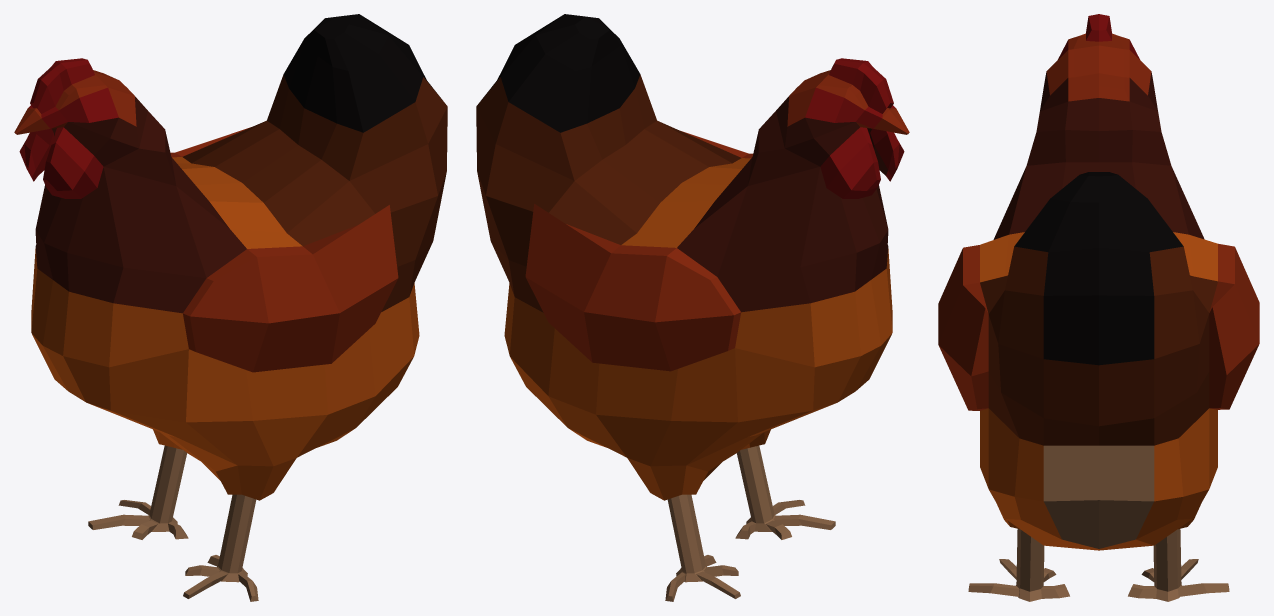
Rendered from gallinota_fbx.FBX.
The picture shows the model from 3 angles, left to right: view 1: azimuth 30°, elevation 25°; view 2: azimuth 150°, elevation 25°; view 3: azimuth 270°, elevation 25°; orthographic projection.
Visible parts, largest first — view 1: gallina; view 2: gallina; view 3: gallina.
Part boxes in pixels (box(x1,y1,x2,y2)): gallina: box(14, 14, 447, 601); gallina: box(476, 14, 909, 601); gallina: box(938, 14, 1259, 601).
Bounding box in the file's own units: 37.7 × 45.12 × 25.52.
